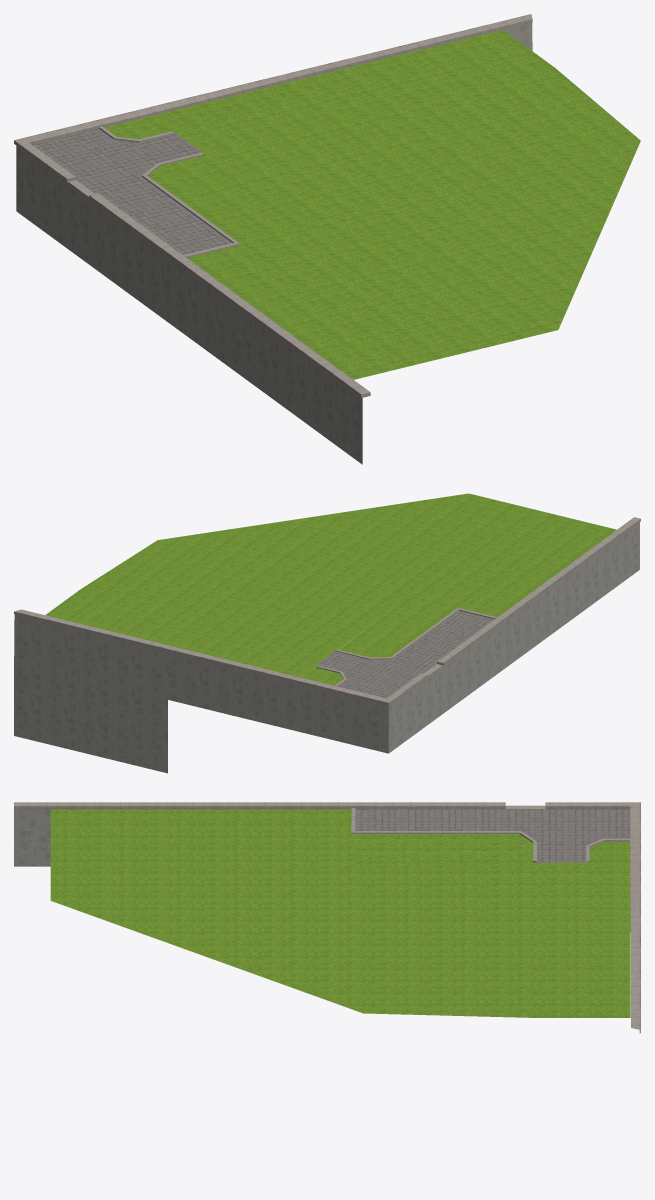
Rendered from TownGroundTile_B.fbx.
3 renders of one model, top to bottom at view 1: azimuth 30°, elevation 25°; view 2: azimuth 150°, elevation 25°; view 3: azimuth 270°, elevation 25°, orthographic. The views are drawn at different scales.
Parts seen in each view (by area): view 1: TownGroundTile_B; view 2: TownGroundTile_B; view 3: TownGroundTile_B.
Part boxes in pixels (box(x1,y1,x2,y2)): TownGroundTile_B: box(14, 14, 640, 464); TownGroundTile_B: box(14, 493, 640, 773); TownGroundTile_B: box(14, 802, 640, 1033).
Bounding box in the file's own units: 7549 × 2399 × 8768.
Materials: 4 (4 with a texture image).
